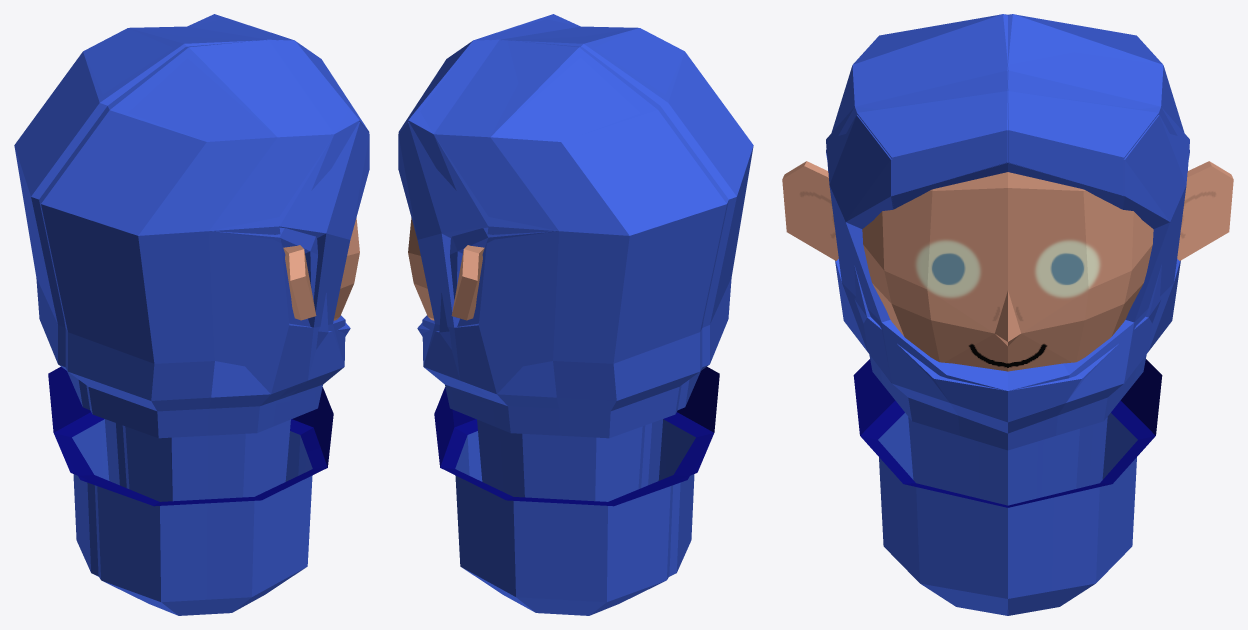
The model's file is Child.glb.
The picture shows the model from 3 angles, left to right: view 1: azimuth 30°, elevation 25°; view 2: azimuth 150°, elevation 25°; view 3: azimuth 270°, elevation 25°; orthographic projection. The views are drawn at different scales.
Parts seen in each view (by area): view 1: Head; view 2: Head; view 3: Head.
Boxes of the visible parts, x1=… form: Head: x1=14, y1=14, x2=369, y2=615; Head: x1=398, y1=14, x2=753, y2=615; Head: x1=782, y1=14, x2=1233, y2=615.
Size of the model in its own units: 0.8164 by 1.4 by 1.01.
3 materials, 1 textured.
